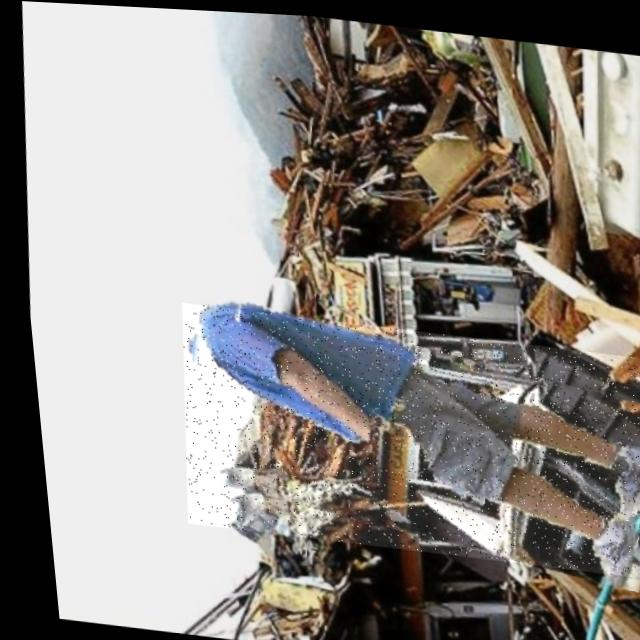Person in Rubble: (160, 299, 640, 573)
